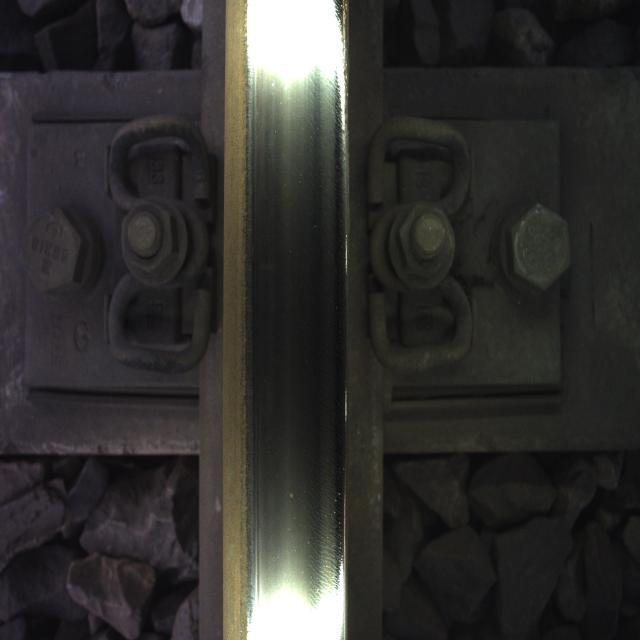break: (254, 79, 336, 600)
